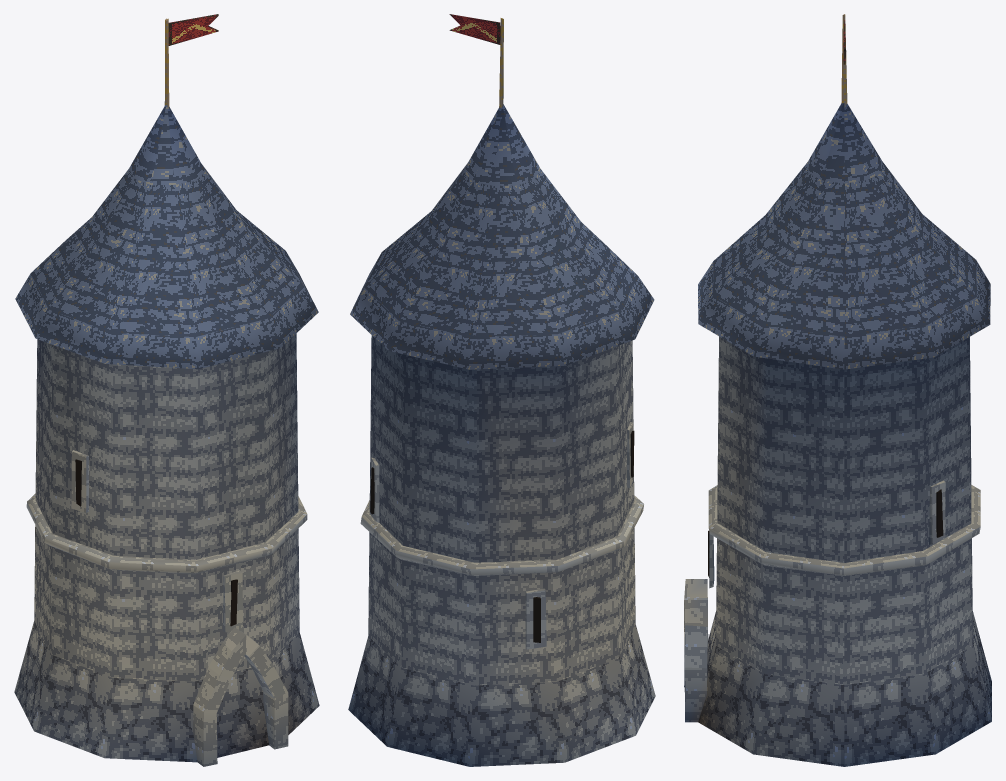
The model's file is cst.tower_round__door.glb.
3 renders of one model, left to right at view 1: azimuth 30°, elevation 25°; view 2: azimuth 150°, elevation 25°; view 3: azimuth 270°, elevation 25°, orthographic.
Visible parts, largest first — view 1: kit_drum, kit_top, kit_detail; view 2: kit_drum, kit_top, kit_detail; view 3: kit_drum, kit_top, kit_detail.
Boxes of the visible parts, <box> form: kit_drum: <box>14,333,319,762</box>; kit_top: <box>15,104,318,369</box>; kit_detail: <box>26,14,307,766</box>; kit_drum: <box>348,335,655,766</box>; kit_top: <box>350,104,654,369</box>; kit_detail: <box>360,14,643,649</box>; kit_drum: <box>698,336,991,766</box>; kit_top: <box>698,103,990,369</box>; kit_detail: <box>684,14,980,722</box>.
Size of the model in its own units: 6.9 by 16.87 by 6.85.
7 materials, 7 textured.
